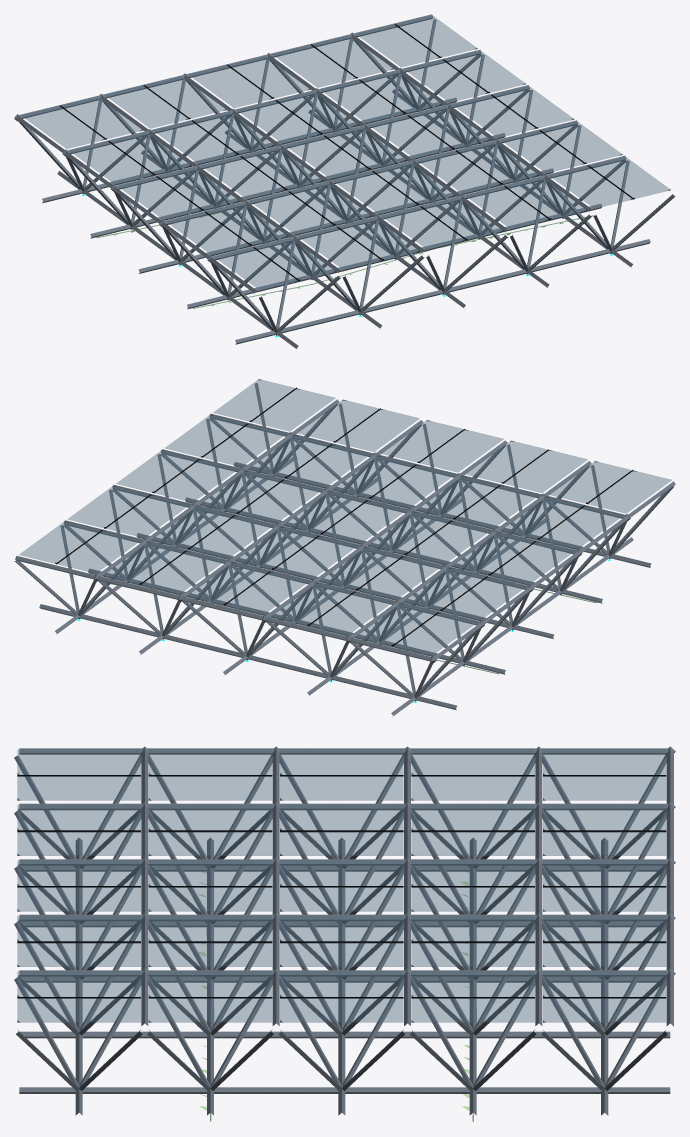
3 renders of one model, top to bottom at view 1: azimuth 30°, elevation 25°; view 2: azimuth 150°, elevation 25°; view 3: azimuth 270°, elevation 25°, orthographic. The views are drawn at different scales.
Visible parts, largest first — view 1: Roof_Glass_Panes, Space_Frame, Glazing_Bars, Vine_Stems; view 2: Roof_Glass_Panes, Space_Frame, Glazing_Bars; view 3: Roof_Glass_Panes, Space_Frame, Glazing_Bars.
Part boxes in pixels (x1,y1,x2,y2): Roof_Glass_Panes: [21, 15, 670, 290]; Space_Frame: [14, 14, 675, 348]; Glazing_Bars: [60, 24, 634, 280]; Vine_Stems: [96, 146, 594, 308]; Roof_Glass_Panes: [19, 379, 671, 655]; Space_Frame: [14, 383, 675, 715]; Glazing_Bars: [55, 387, 632, 646]; Roof_Glass_Panes: [17, 749, 665, 1022]; Space_Frame: [14, 746, 675, 1115]; Glazing_Bars: [17, 775, 666, 998].
Size of the model in its own units: 20.15 by 3.55 by 20.16.
Materials: 6 (3 with a texture image).
